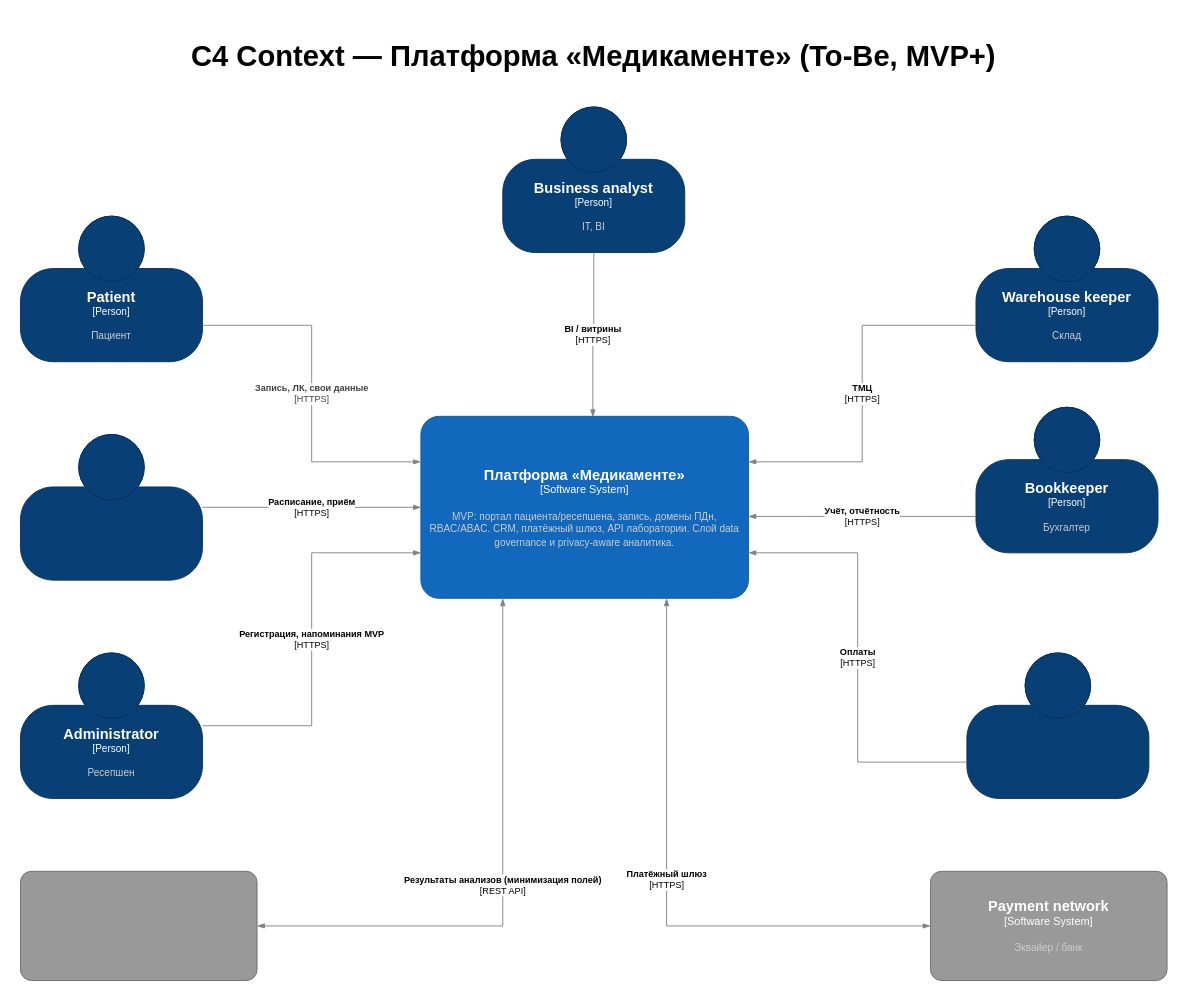
Some shapes in this 1187 by 996 pixel diagram are drawn without their labels. Each missing label, with the centre of its shape:
Cashier [Person] Кассир: (1057,725)
Doctor [Person] Врач: (111,507)
Laboratory [Software System] Внешняя лаборатория (API): (138,925)
